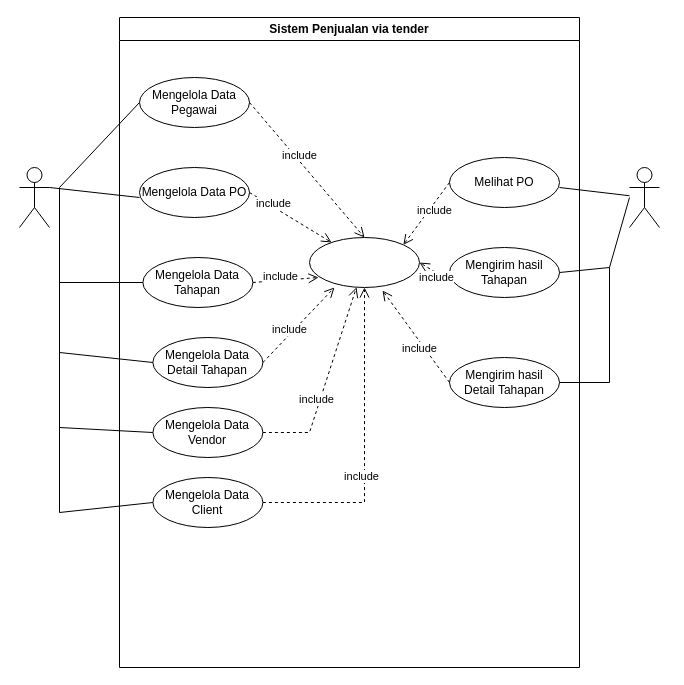
This 684x685 diagram has some shape labels left out. The shapes that lost their labels are listed below. From the top down, each one's centre as x and y in pixels, then its label:
point 34,197: Admin
point 644,197: Pegawai
point 364,262: Login
